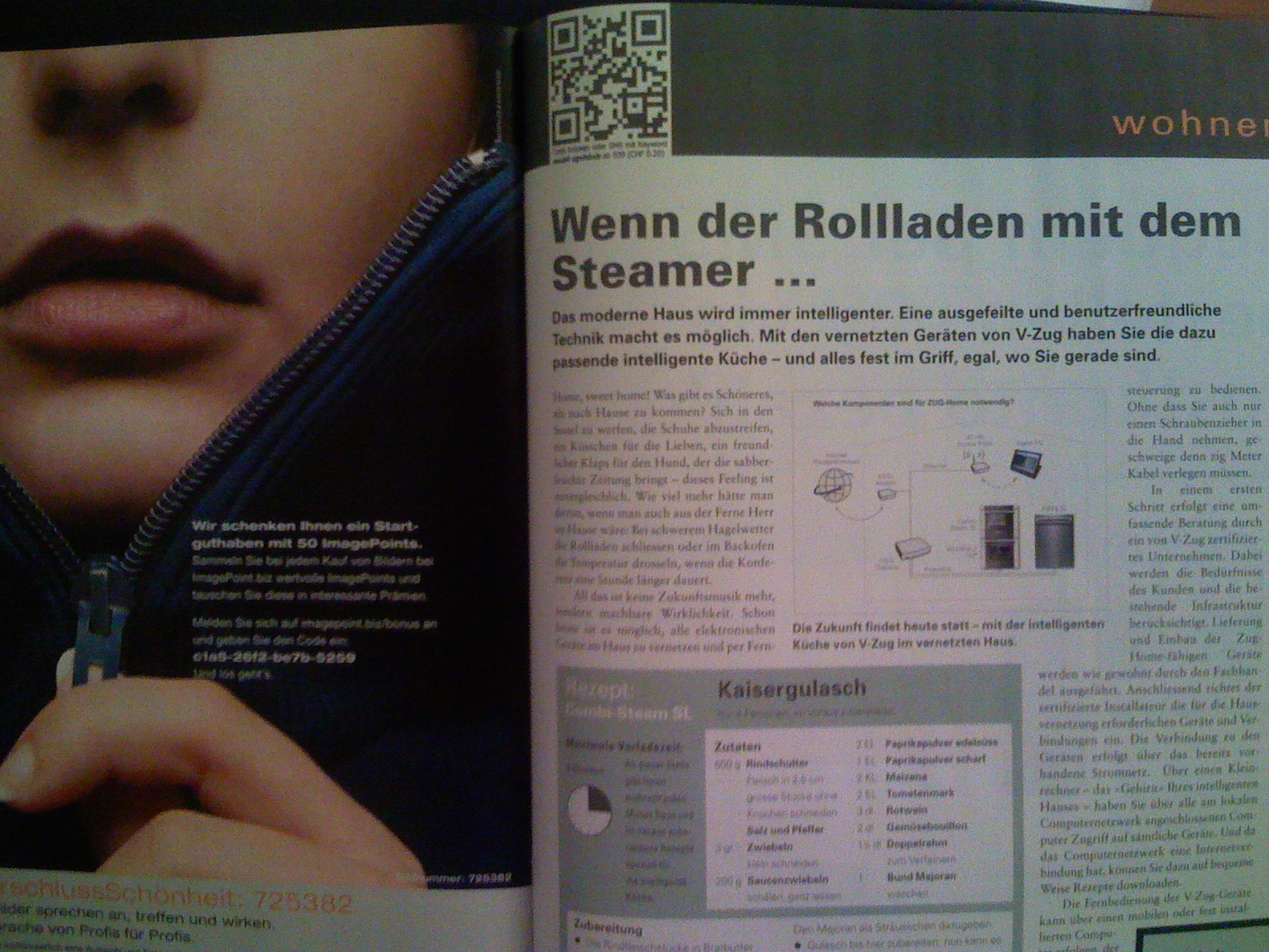QR-CODE: (551, 10, 667, 145)
